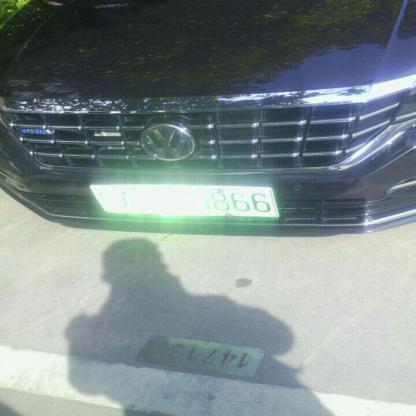lp: (87, 185, 280, 216)
